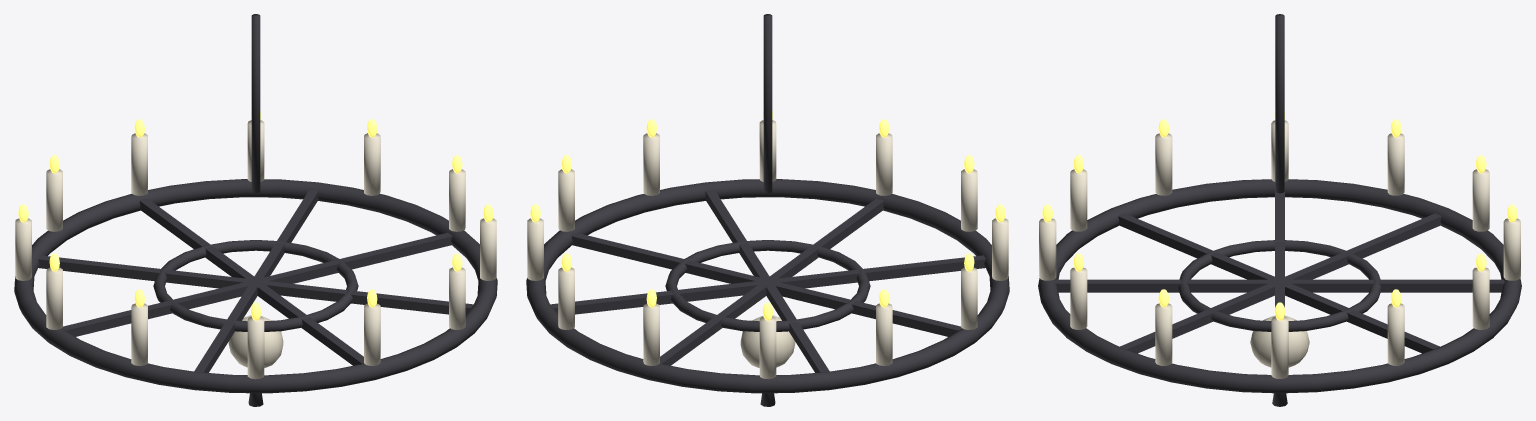
Rendered from chandelier_wagon_wheel.glb.
3 renders of one model, left to right at view 1: azimuth 30°, elevation 25°; view 2: azimuth 150°, elevation 25°; view 3: azimuth 270°, elevation 25°, orthographic.
Parts seen in each view (by area): view 1: GD_chandelier_wagon_wheel__m0, GD_chandelier_wagon_wheel__m1, GD_chandelier_wagon_wheel__m2, GD_chandelier_wagon_wheel__m3; view 2: GD_chandelier_wagon_wheel__m0, GD_chandelier_wagon_wheel__m1, GD_chandelier_wagon_wheel__m2, GD_chandelier_wagon_wheel__m3; view 3: GD_chandelier_wagon_wheel__m0, GD_chandelier_wagon_wheel__m1, GD_chandelier_wagon_wheel__m2, GD_chandelier_wagon_wheel__m3.
Part boxes in pixels (left/top/right/bottom): GD_chandelier_wagon_wheel__m0: left=14, top=14, right=497, bottom=406; GD_chandelier_wagon_wheel__m1: left=15, top=120, right=496, bottom=379; GD_chandelier_wagon_wheel__m2: left=18, top=110, right=493, bottom=320; GD_chandelier_wagon_wheel__m3: left=228, top=315, right=283, bottom=367; GD_chandelier_wagon_wheel__m0: left=526, top=14, right=1009, bottom=406; GD_chandelier_wagon_wheel__m1: left=527, top=120, right=1008, bottom=379; GD_chandelier_wagon_wheel__m2: left=530, top=110, right=1005, bottom=320; GD_chandelier_wagon_wheel__m3: left=740, top=315, right=795, bottom=367; GD_chandelier_wagon_wheel__m0: left=1038, top=14, right=1521, bottom=406; GD_chandelier_wagon_wheel__m1: left=1039, top=120, right=1520, bottom=378; GD_chandelier_wagon_wheel__m2: left=1042, top=112, right=1517, bottom=320; GD_chandelier_wagon_wheel__m3: left=1250, top=316, right=1309, bottom=367.
Size of the model in its own units: 1.25 by 1.1 by 1.25.
